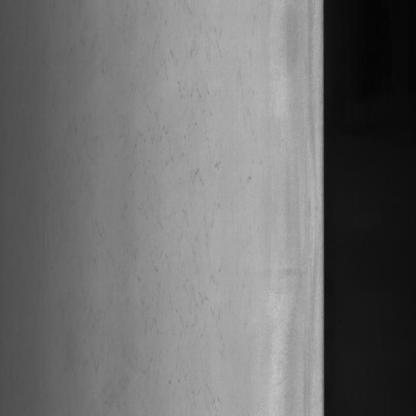silk_spot: (129, 23, 238, 281)
